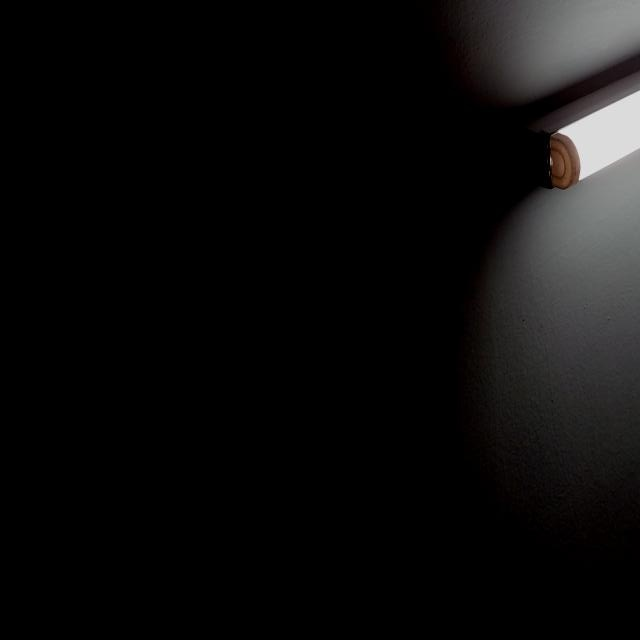fluorescent tube: (481, 0, 640, 257)
